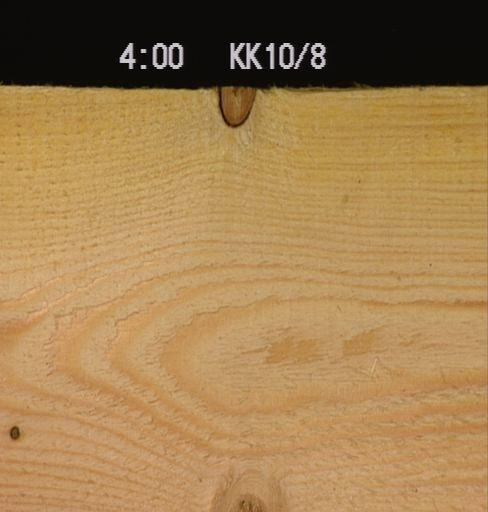dry_knot: (6, 421, 21, 442)
edge_knot: (206, 476, 290, 511), (214, 85, 256, 128)
